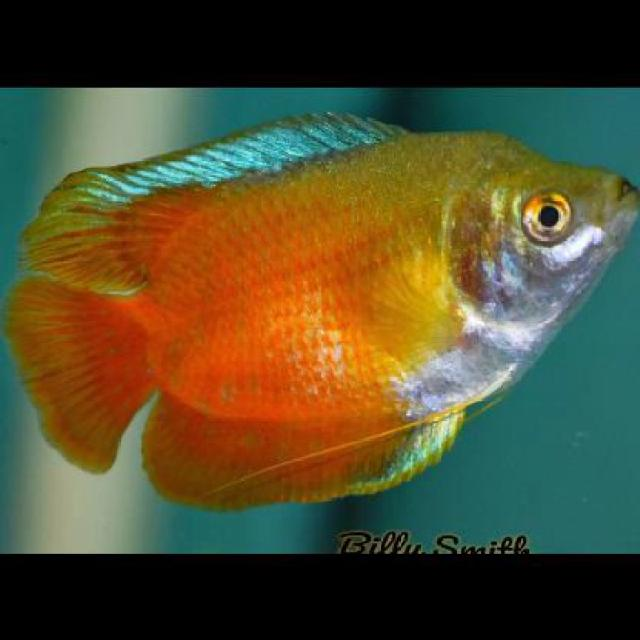Gourami: (0, 108, 638, 514)
